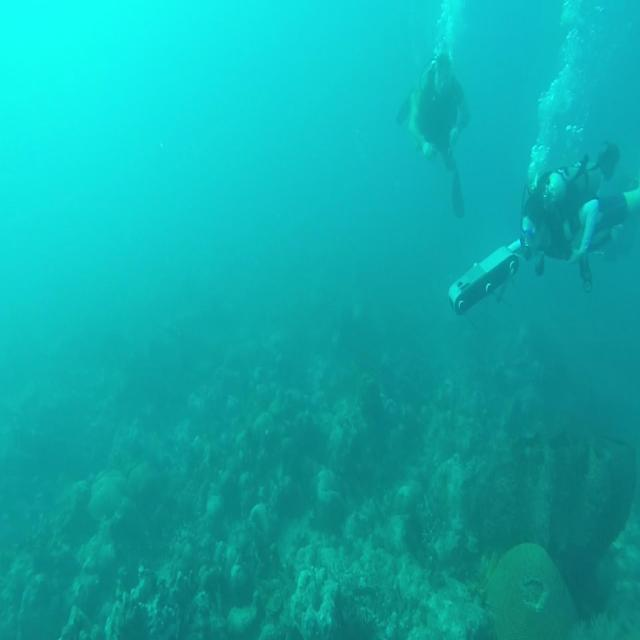human: (520, 139, 620, 279), (396, 45, 470, 219)
